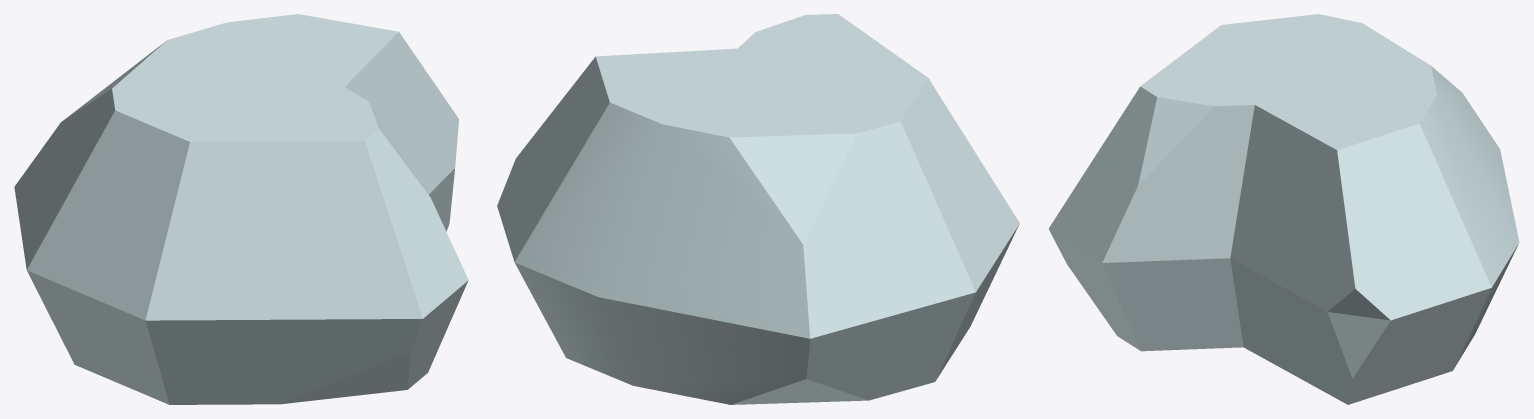
File: stone_large4.gltf
3 renders of one model, left to right at view 1: azimuth 30°, elevation 25°; view 2: azimuth 150°, elevation 25°; view 3: azimuth 270°, elevation 25°, orthographic. The views are drawn at different scales.
Visible parts, largest first — view 1: stone_large4; view 2: stone_large4; view 3: stone_large4.
Part boxes in pixels (x1,y1,x2,y2): stone_large4: (14,14,468,404); stone_large4: (497,14,1019,404); stone_large4: (1048,14,1519,404).
Bounding box in the file's own units: 1.07 × 0.5683 × 1.03.
